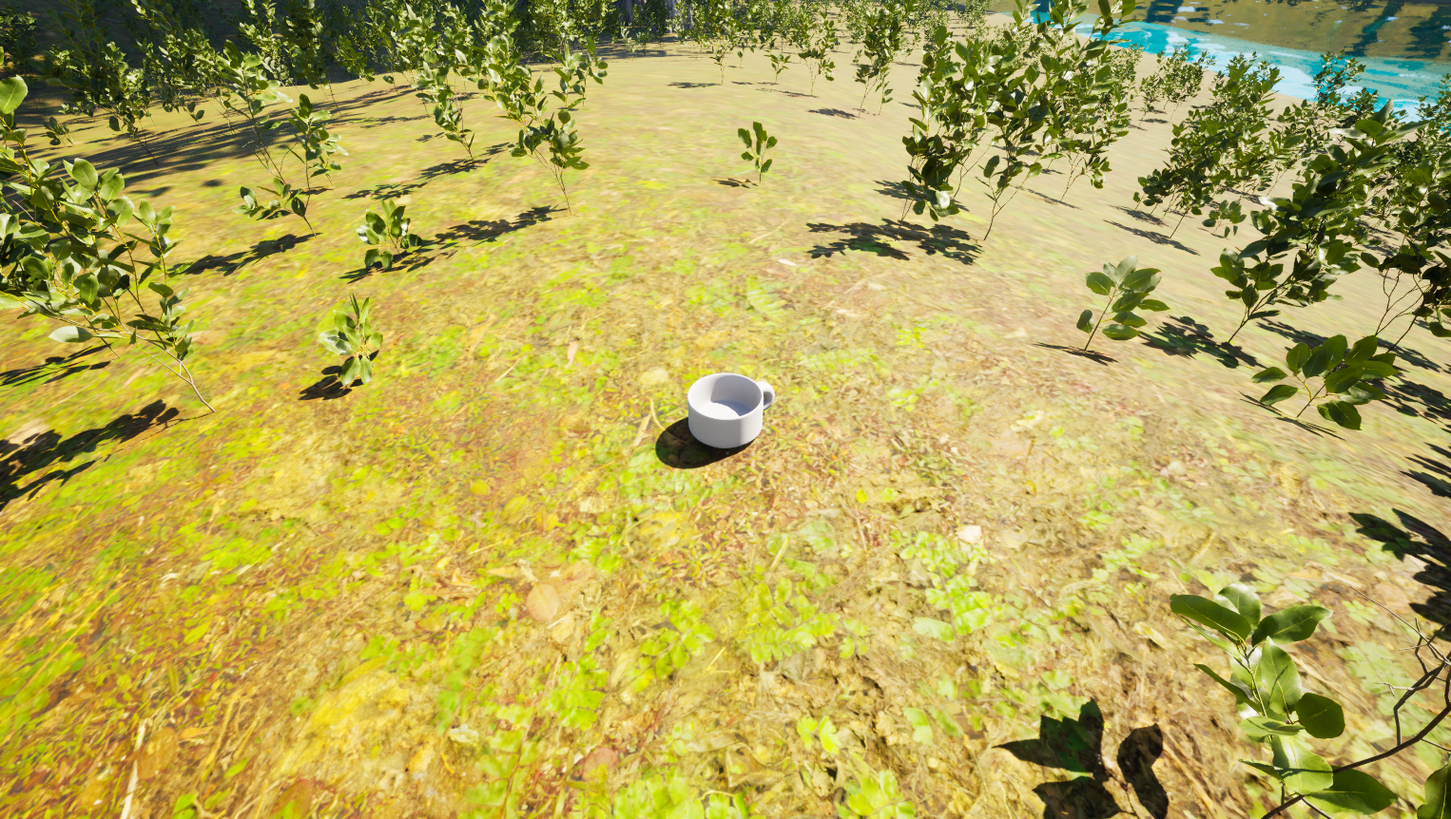Teacup: (683, 371, 776, 451)
